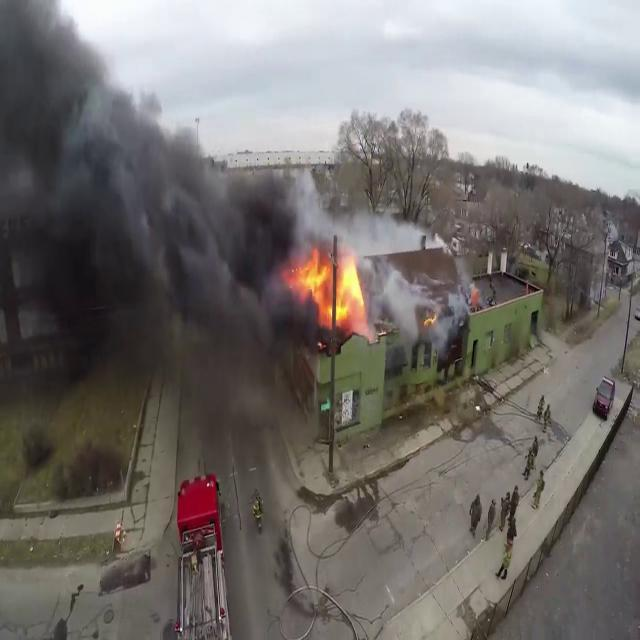Fire: (287, 236, 368, 330)
Smoke: (0, 14, 310, 412)
